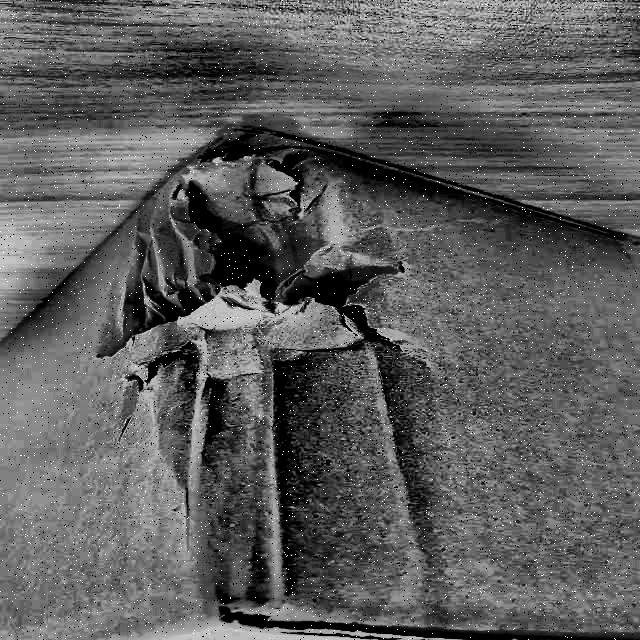box: (1, 102, 640, 640)
hole: (108, 179, 404, 408)
